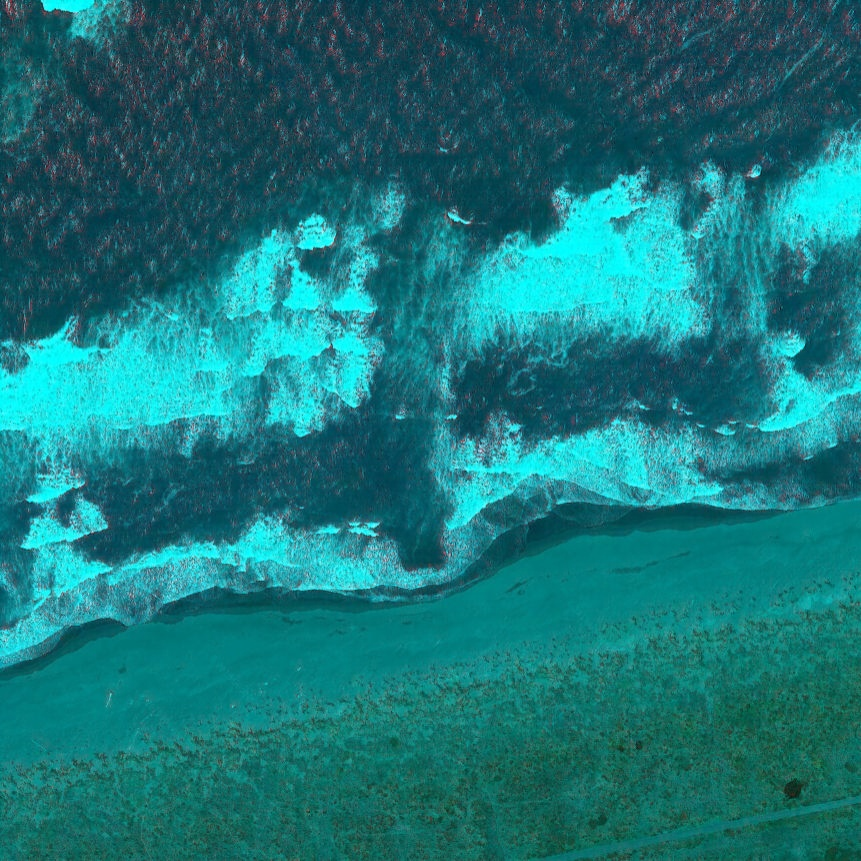rip_current: (285, 150, 498, 525)
